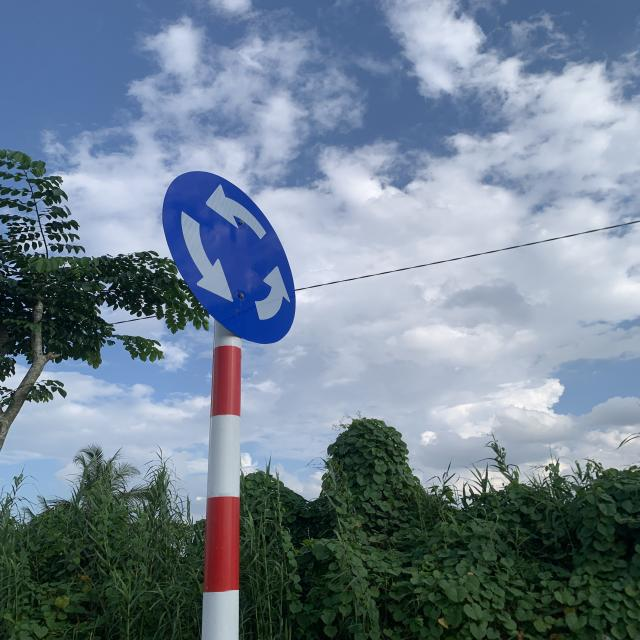Xe_Bus: (164, 169, 297, 341)
